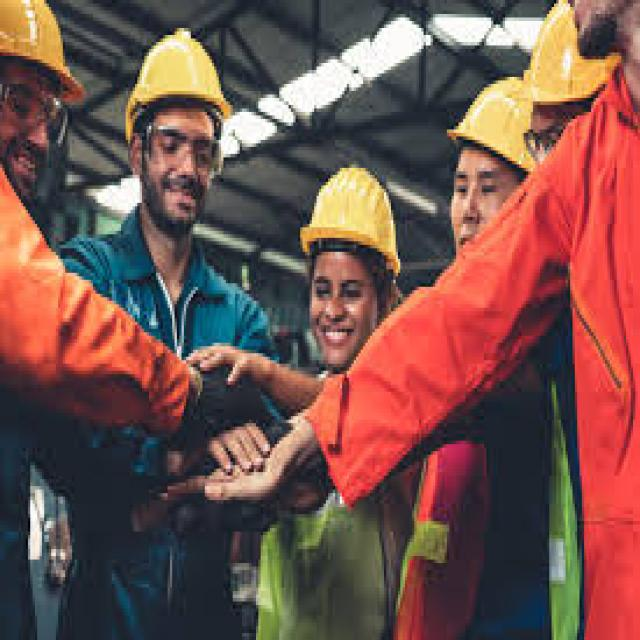Reflective-Jacket: (244, 168, 628, 636)
Safety-Helmet: (293, 157, 410, 280), (519, 0, 638, 112), (121, 24, 240, 133), (442, 70, 545, 185), (0, 0, 86, 101)
